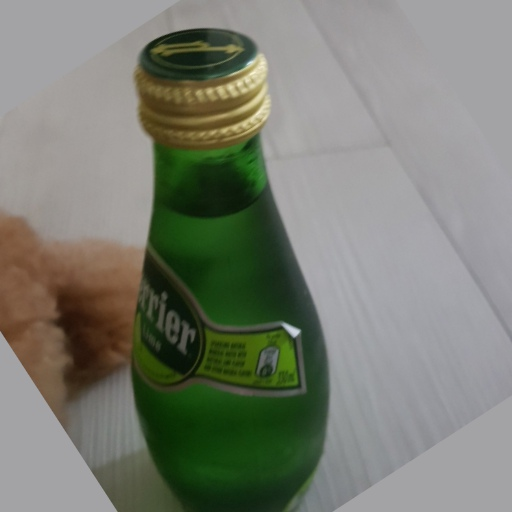Glass_4: (130, 27, 334, 512)
